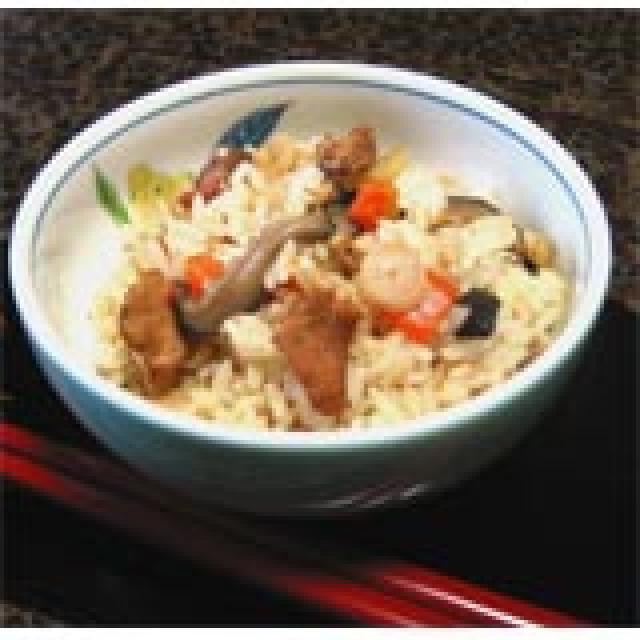米饭主食: (0, 52, 604, 512)
